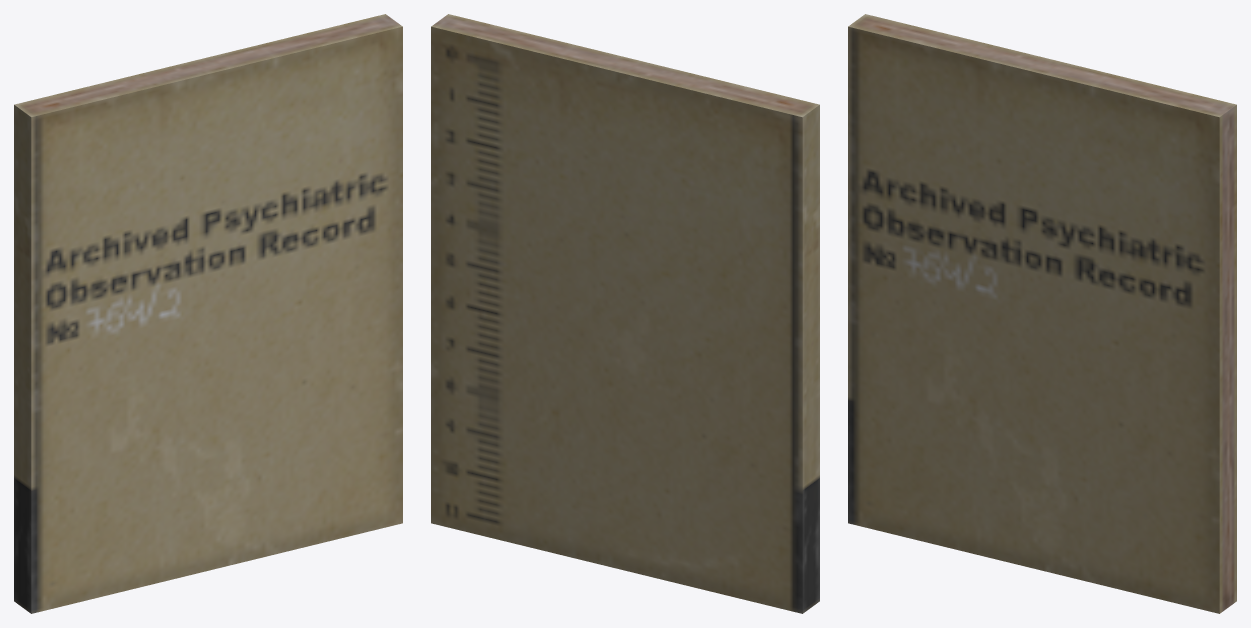
The model's file is HH_Book_04.fbx.
3 views of the same model, side by side, from view 1: azimuth 30°, elevation 25°; view 2: azimuth 150°, elevation 25°; view 3: azimuth 330°, elevation 25° (orthographic).
Parts seen in each view (by area): view 1: HH_Book_04; view 2: HH_Book_04; view 3: HH_Book_04.
Part boxes in pixels (bbox=[...]): HH_Book_04: bbox=[14, 14, 402, 613]; HH_Book_04: bbox=[431, 14, 819, 613]; HH_Book_04: bbox=[848, 14, 1236, 613].
Size of the model in its own units: 20.85 by 26.63 by 1.68.
